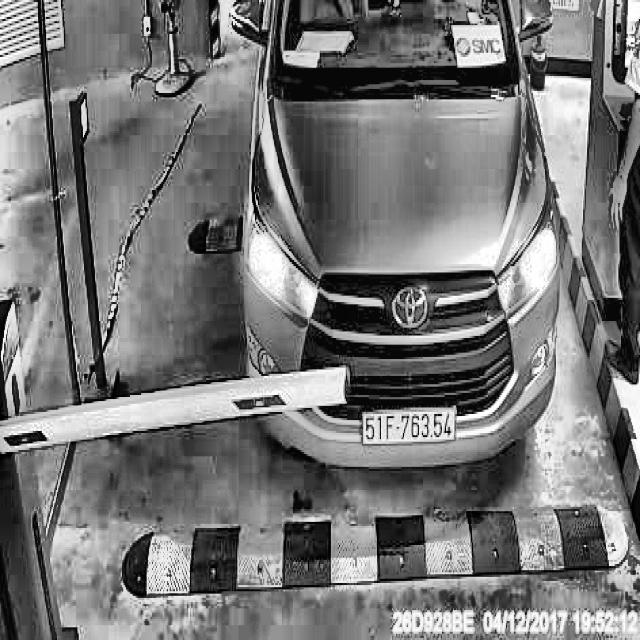plate: (359, 398, 460, 456)
